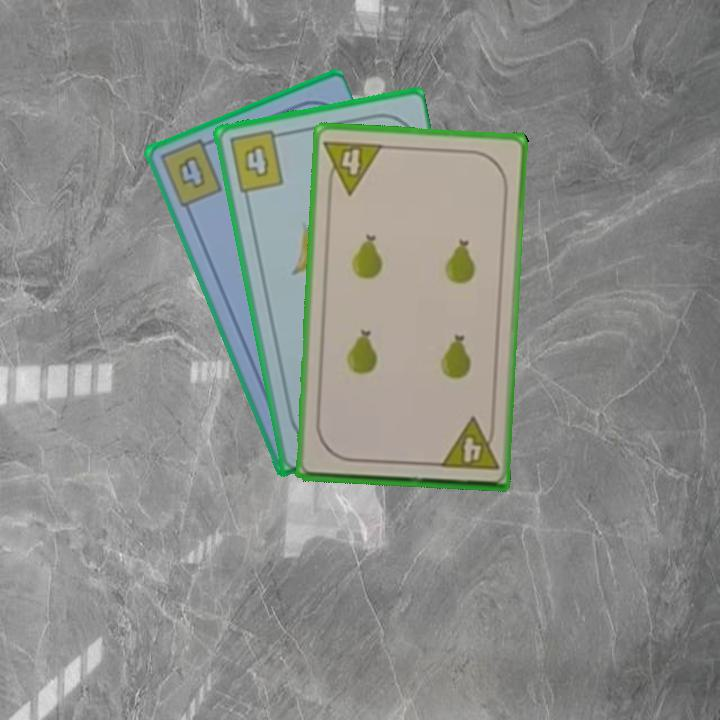4b: (155, 135, 225, 210), (225, 127, 287, 196)
4p: (321, 136, 386, 197), (436, 415, 501, 473)
